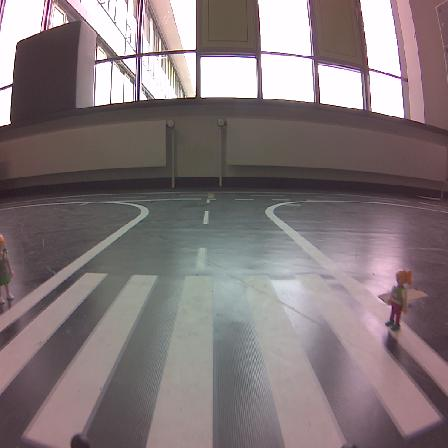CHILD: (385, 270, 411, 330)
PERSON: (0, 234, 13, 300)
